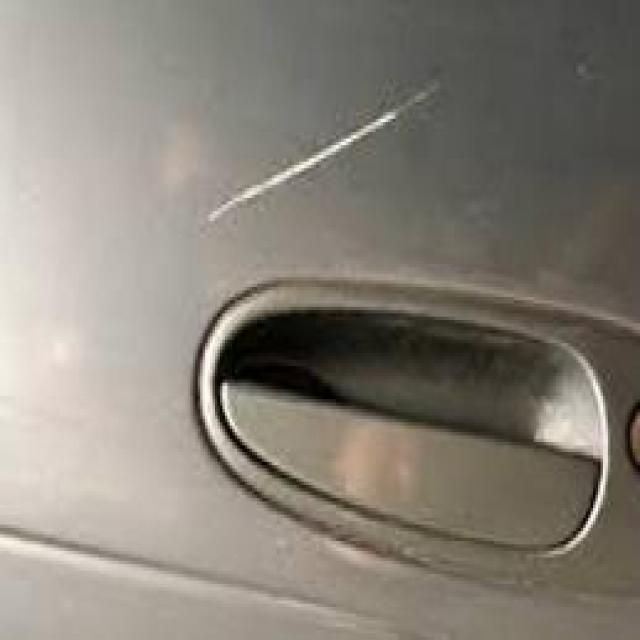scratch: (195, 51, 475, 244)
